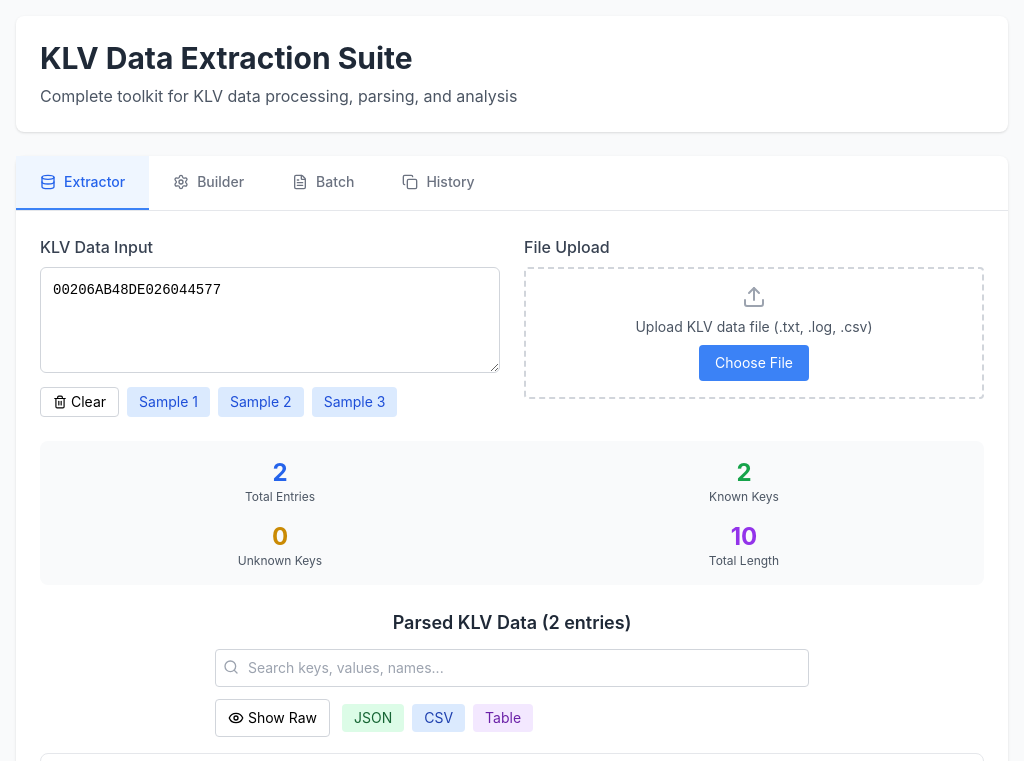
App Integration Tests › Tab Navigation › should switch to builder tab when clicked
Click the button "Builder" at (209, 183), box [149,156,268,210]
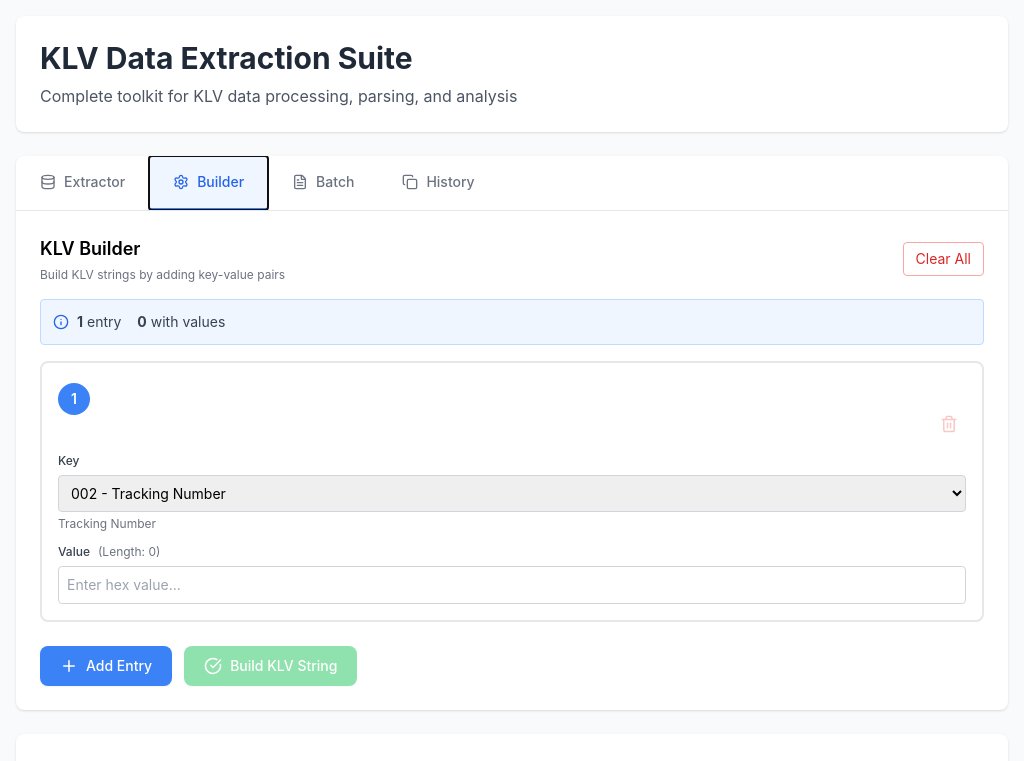
Check: the heading "KLV Builder" is shown, box [40,238,140,259]
